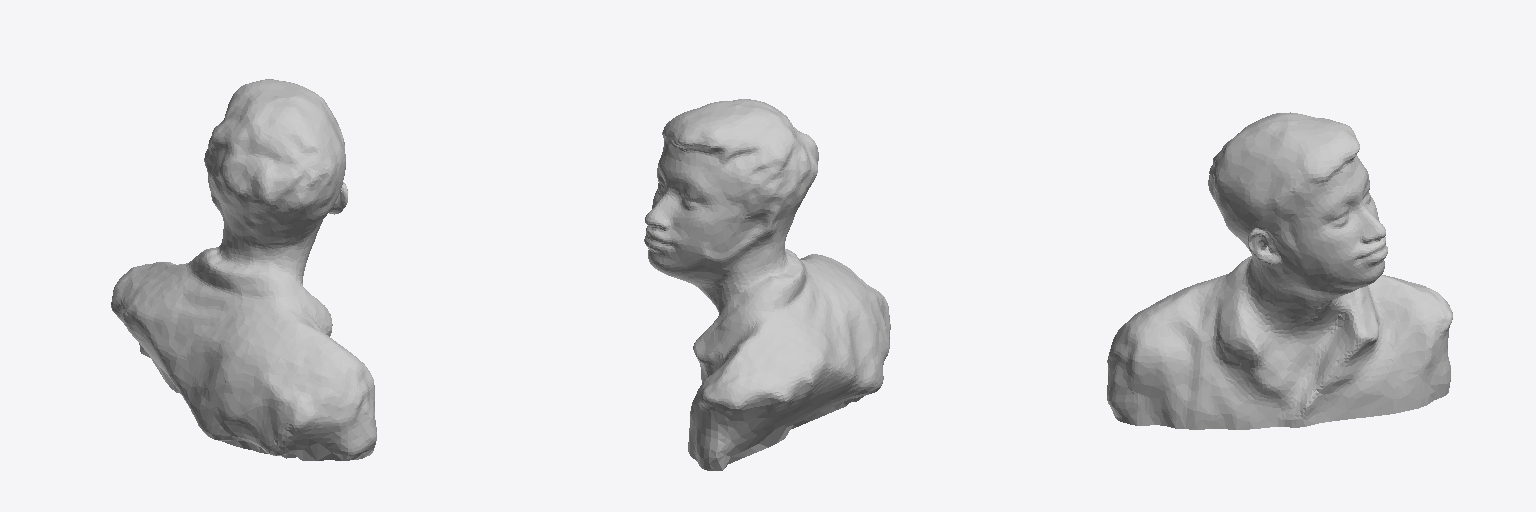
File: philemon.obj
3 views of the same model, side by side, from view 1: azimuth 30°, elevation 25°; view 2: azimuth 150°, elevation 25°; view 3: azimuth 270°, elevation 25° (orthographic).
Parts seen in each view (by area): view 1: ArcsoftMeshes0; view 2: ArcsoftMeshes0; view 3: ArcsoftMeshes0.
Boxes of the visible parts, x1=… form: ArcsoftMeshes0: x1=111, y1=79, x2=376, y2=460; ArcsoftMeshes0: x1=644, y1=99, x2=890, y2=470; ArcsoftMeshes0: x1=1107, y1=112, x2=1452, y2=429.
Bounding box in the file's own units: 1.25 × 1.99 × 2.12.